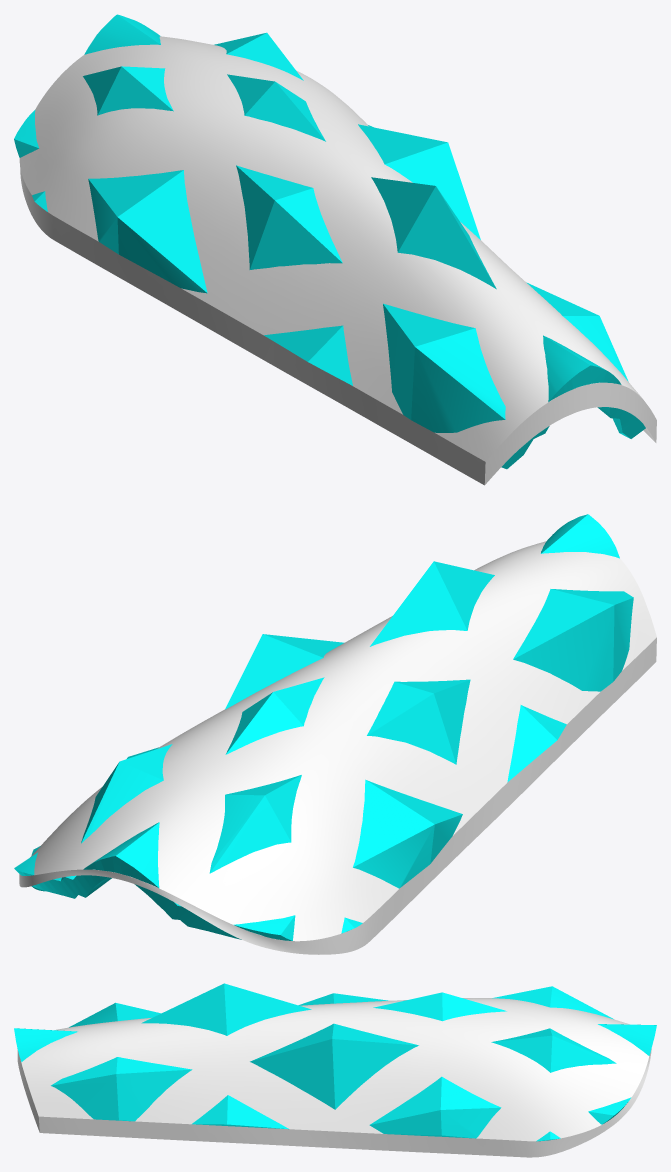
Rendered from spikey-sapphire-coffin-web.glb.
3 renders of one model, top to bottom at view 1: azimuth 30°, elevation 25°; view 2: azimuth 150°, elevation 25°; view 3: azimuth 270°, elevation 25°, orthographic. The views are drawn at different scales.
Size of the model in its own units: 0.0139 by 0.00743 by 0.0355.
